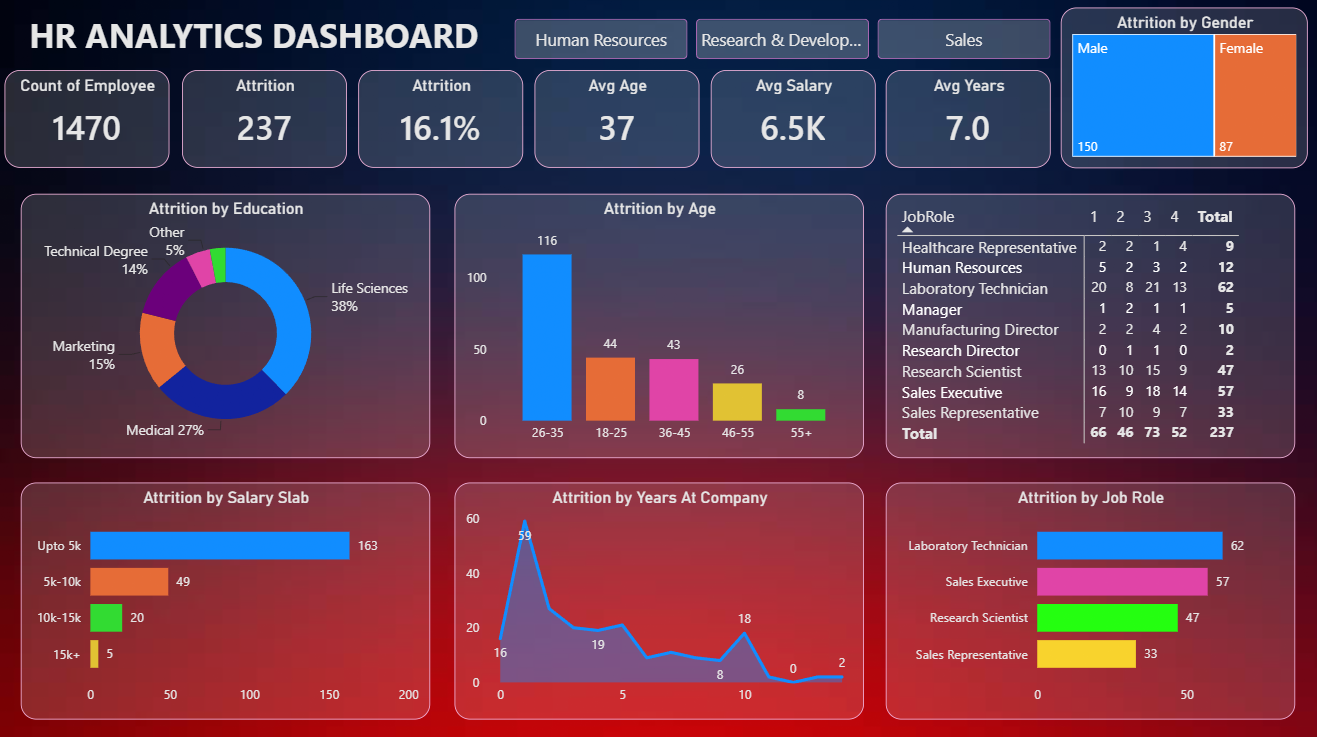

This screenshot's page, from the dashboard's own definition file:
{"tool":"powerbi","page":{"name":"Page 1","canvas":[1280,720],"ordinal":0},"visuals":[{"type":"textbox","box":[6.9,12.3,481.2,60.3],"z":0},{"type":"cardVisual","title":"Count of Employee","fields":{"Data":["CountNonNull(HR_Analytics.EmpID)"]},"box":[7.5,72.6,159.3,94.1],"z":1000},{"type":"cardVisual","title":"Attrition","fields":{"Data":["CountNonNull(HR_Analytics.Attrition)"]},"box":[178.8,72.6,159.3,94.1],"z":2000},{"type":"cardVisual","title":"Attrition","fields":{"Data":["HR_Analytics.AttritionRate"]},"box":[348.9,72.6,159.3,94.1],"z":3000},{"type":"cardVisual","title":"Avg Age","fields":{"Data":["Avg(HR_Analytics.Age)"]},"box":[519,72.6,159.3,94.1],"z":4000},{"type":"cardVisual","title":"Avg Salary","fields":{"Data":["Avg(HR_Analytics.MonthlyIncome)"]},"box":[689.1,72.6,159.3,94.1],"z":5000},{"type":"cardVisual","title":"Avg Years","fields":{"Data":["Avg(HR_Analytics.YearsAtCompany)"]},"box":[858,72.6,159.3,94.1],"z":6000},{"type":"treemap","title":"Attrition by Gender","fields":{"Group":["HR_Analytics.Gender"],"Values":["Sum(HR_Analytics.AttritionCount)"]},"box":[1026.9,12.3,238.6,154.9],"z":7000},{"type":"columnChart","title":"Attrition by Age","fields":{"Category":["HR_Analytics.AgeGroup"],"Y":["Sum(HR_Analytics.AttritionCount)"]},"box":[441.5,191.9,394.9,255],"z":8000},{"type":"donutChart","title":"Attrition by Education","fields":{"Y":["Sum(HR_Analytics.AttritionCount)"],"Category":["HR_Analytics.EducationField"]},"box":[23.3,191.9,394.9,255],"z":9000},{"type":"barChart","title":"Attrition by Salary Slab","fields":{"Category":["HR_Analytics.SalarySlab"],"Y":["Sum(HR_Analytics.AttritionCount)"]},"box":[23.3,470.3,394.9,229],"z":10000},{"type":"areaChart","title":"Attrition by Years At Company","fields":{"Category":["HR_Analytics.YearsAtCompany"],"Y":["Sum(HR_Analytics.AttritionCount)"]},"box":[441.5,470.3,394.9,229],"z":11000},{"type":"pivotTable","fields":{"Rows":["HR_Analytics.JobRole"],"Columns":["HR_Analytics.JobSatisfaction"],"Values":["Sum(HR_Analytics.AttritionCount)"]},"box":[858.3,191.9,394.9,255],"z":12000},{"type":"clusteredBarChart","title":"Attrition by Job Role","fields":{"Y":["Sum(HR_Analytics.AttritionCount)"],"Category":["HR_Analytics.JobRole"]},"box":[858.3,470.3,394.9,229],"z":13000},{"type":"advancedSlicerVisual","fields":{"Values":["HR_Analytics.Department"]},"box":[494.9,17.8,529.2,49.4],"z":14000}]}

Visuals, with their boxes in screenshot pixels (x1, y1, x2, y2), scaled from the page's 1280x720 canvas onto the 1317x737 screenshot:
textbox: (x1=7, y1=13, x2=502, y2=74)
"Count of Employee" cardVisual: (x1=8, y1=74, x2=172, y2=171)
"Attrition" cardVisual: (x1=184, y1=74, x2=348, y2=171)
"Attrition" cardVisual: (x1=359, y1=74, x2=523, y2=171)
"Avg Age" cardVisual: (x1=534, y1=74, x2=698, y2=171)
"Avg Salary" cardVisual: (x1=709, y1=74, x2=873, y2=171)
"Avg Years" cardVisual: (x1=883, y1=74, x2=1047, y2=171)
"Attrition by Gender" treemap: (x1=1057, y1=13, x2=1302, y2=171)
"Attrition by Age" columnChart: (x1=454, y1=196, x2=861, y2=457)
"Attrition by Education" donutChart: (x1=24, y1=196, x2=430, y2=457)
"Attrition by Salary Slab" barChart: (x1=24, y1=481, x2=430, y2=716)
"Attrition by Years At Company" areaChart: (x1=454, y1=481, x2=861, y2=716)
pivotTable - HR_Analytics.JobRole x HR_Analytics.JobSatisfaction: (x1=883, y1=196, x2=1289, y2=457)
"Attrition by Job Role" clusteredBarChart: (x1=883, y1=481, x2=1289, y2=716)
advancedSlicerVisual - HR_Analytics.Department: (x1=509, y1=18, x2=1054, y2=69)
